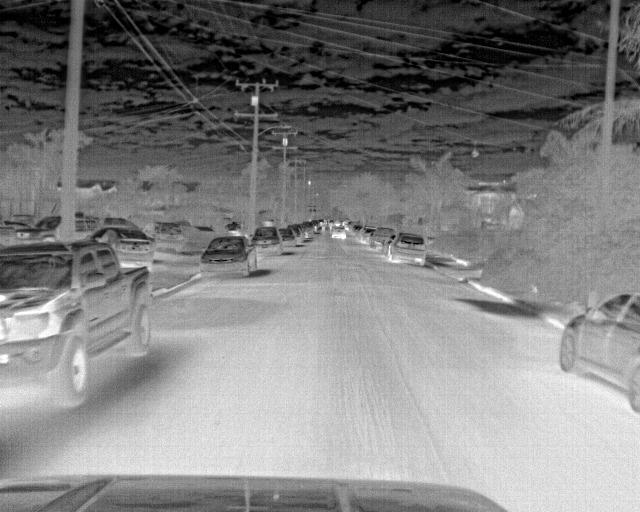car: (1, 241, 155, 408), (557, 286, 639, 414), (92, 224, 156, 267), (200, 232, 258, 278), (14, 217, 61, 248), (144, 222, 184, 254), (387, 233, 429, 262), (248, 224, 284, 256), (370, 226, 396, 250), (276, 228, 298, 247), (330, 224, 352, 239), (298, 221, 314, 238), (361, 227, 377, 243)
